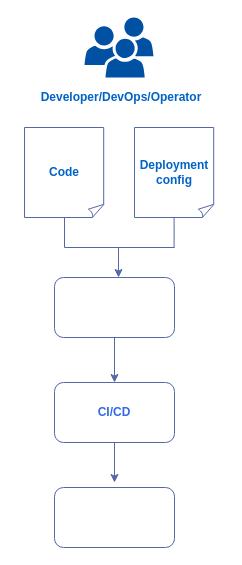
The diagram is 242 pixels wide and 565 high, and some of its shapes have lost their labels. Here are the shapes that lost their labels. From the top down, the centre of each, then its label:
point (114, 307): Source control
point (114, 517): Kubernetes
